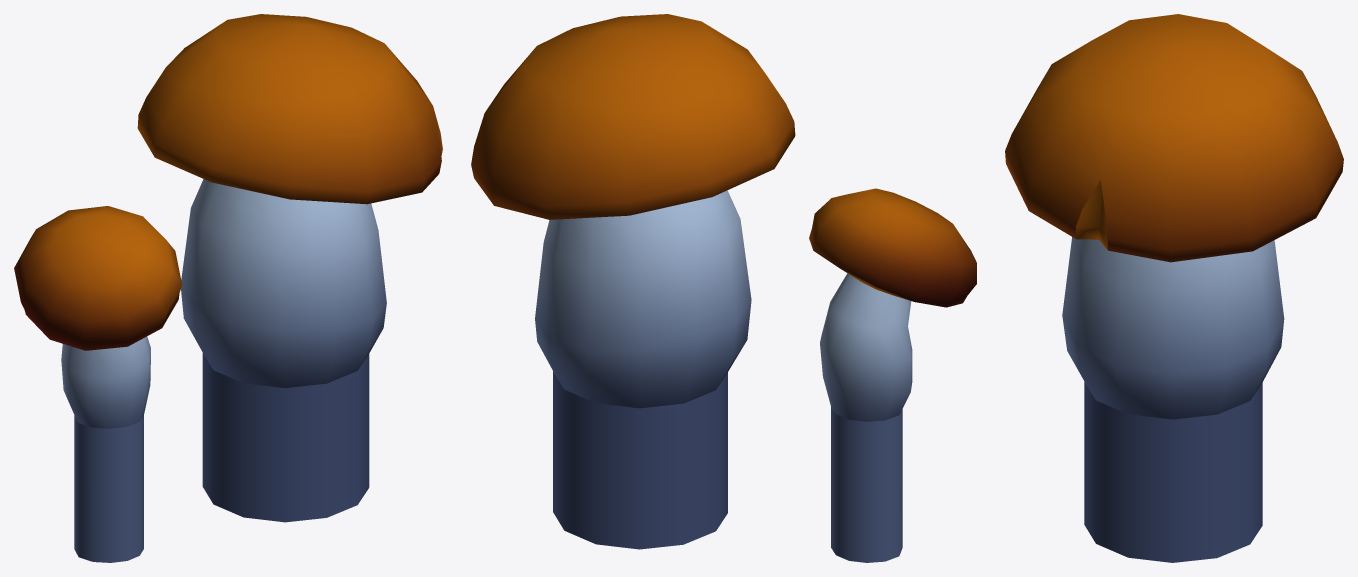
File: mushrooms_2.fbx
3 renders of one model, left to right at view 1: azimuth 30°, elevation 25°; view 2: azimuth 150°, elevation 25°; view 3: azimuth 270°, elevation 25°, orthographic. The views are drawn at different scales.
Parts seen in each view (by area): view 1: mushrooms_2; view 2: mushrooms_2; view 3: mushrooms_2.
Part boxes in pixels (left/top/right/bottom): mushrooms_2: left=14, top=14, right=442, bottom=562; mushrooms_2: left=471, top=14, right=976, bottom=562; mushrooms_2: left=1005, top=14, right=1343, bottom=562.
Bounding box in the file's own units: 53.62 × 54.69 × 34.51.
